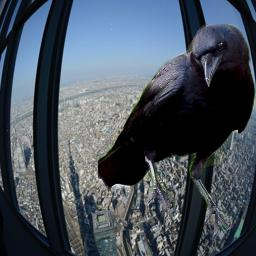Crow: (98, 24, 256, 240)
